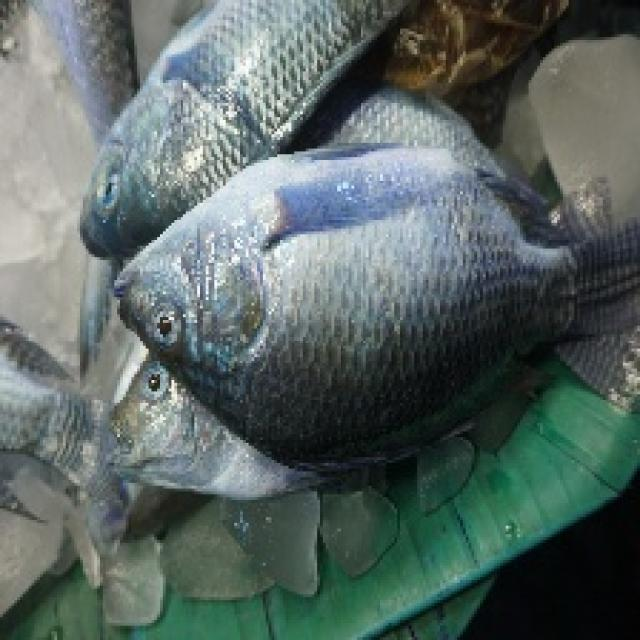Fresh: (112, 146, 515, 448)
